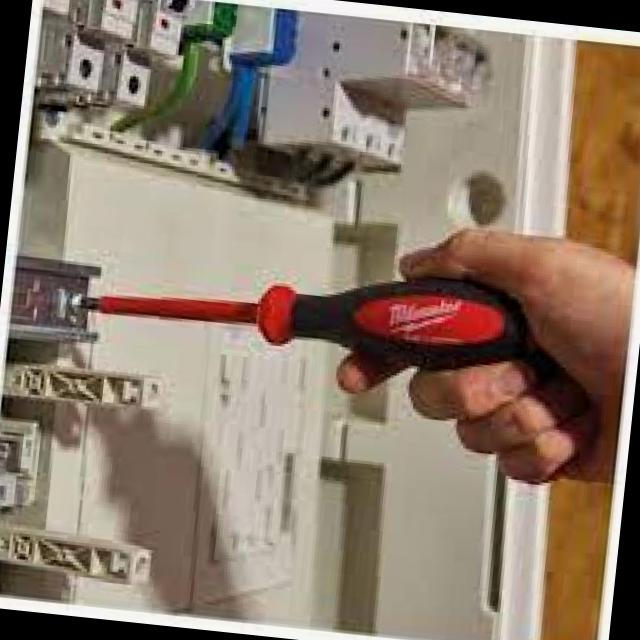screwdriver: (91, 278, 528, 368)
